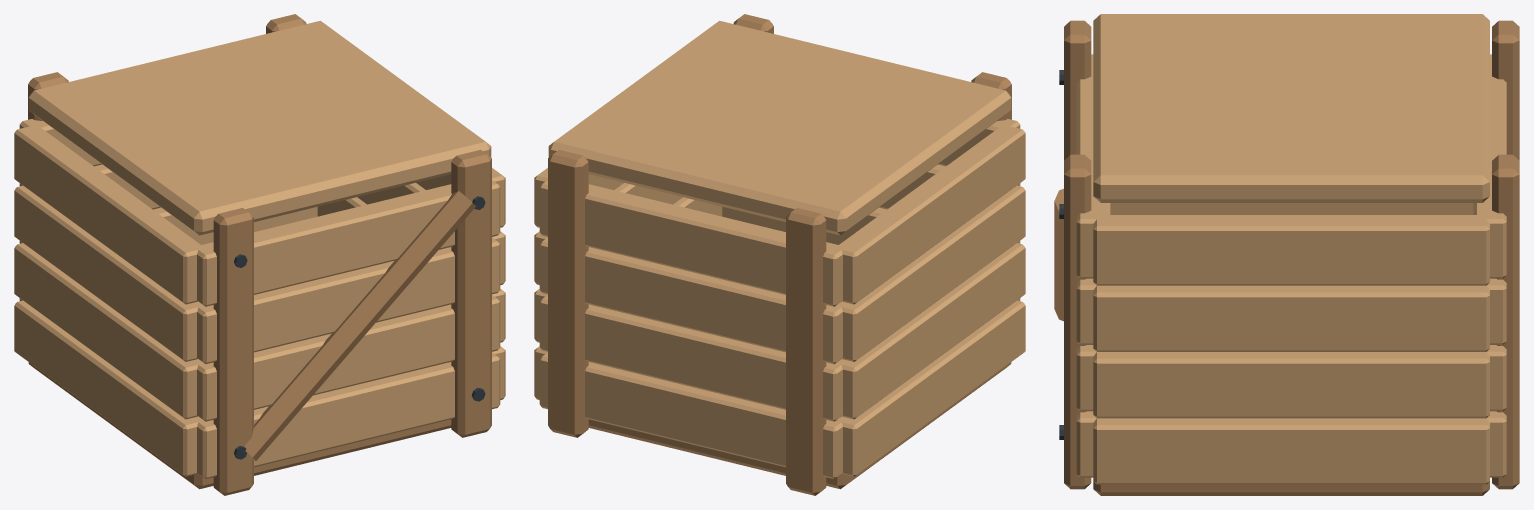
The model's file is Crate_Wood.glb.
3 views of the same model, side by side, from view 1: azimuth 30°, elevation 25°; view 2: azimuth 150°, elevation 25°; view 3: azimuth 270°, elevation 25° (orthographic). The views are drawn at different scales.
Parts seen in each view (by area): view 1: Crate_Wood; view 2: Crate_Wood; view 3: Crate_Wood.
Boxes of the visible parts, x1,y1,x2,y2 form: Crate_Wood: [14, 14, 505, 495]; Crate_Wood: [534, 14, 1025, 495]; Crate_Wood: [1054, 14, 1519, 495].
Bounding box in the file's own units: 0.705 × 0.58 × 0.7625.
